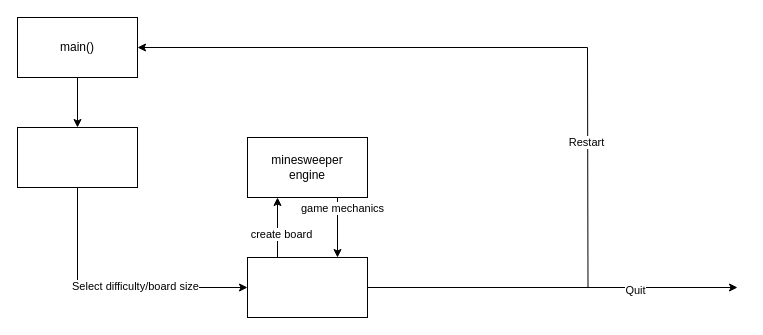
Image size: 763x335. Some labels were removed from this diagram. Each missing label, with the centre of its shape:
App: point (307, 287)
Config: point (77, 157)
